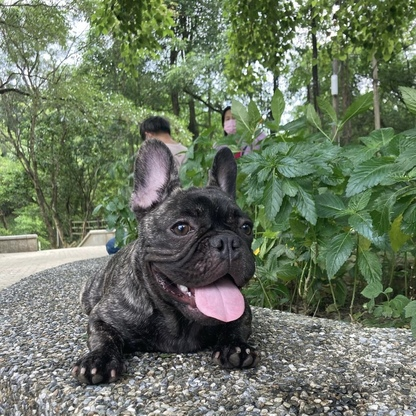bulldog: (71, 136, 262, 387)
